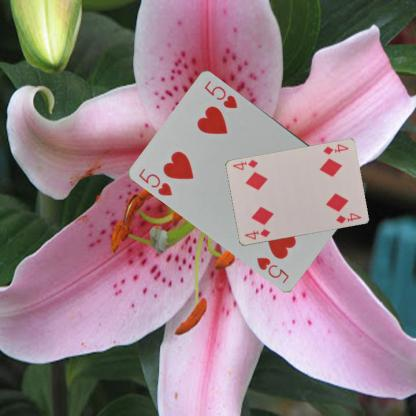4d: (242, 226, 271, 241), (320, 142, 350, 156)
5h: (136, 165, 174, 198)
